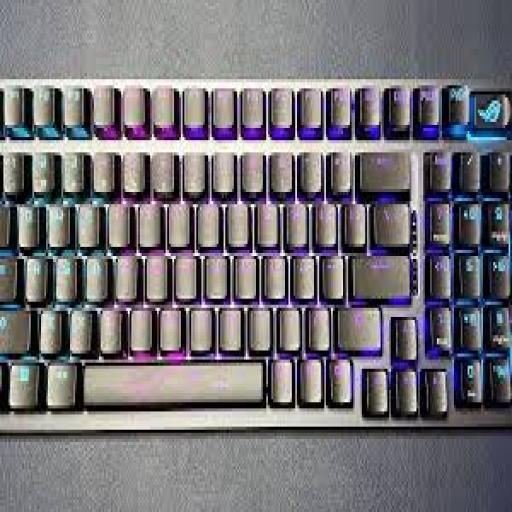keyboard: (0, 79, 509, 430)
